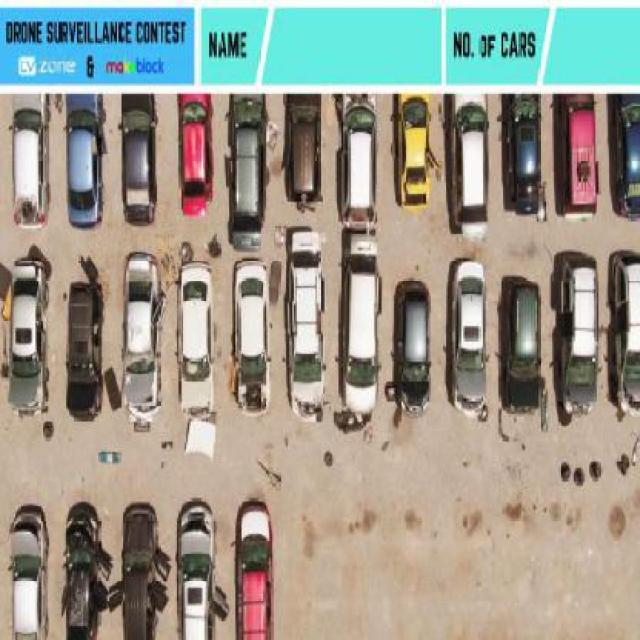car: (340, 231, 382, 425), (283, 225, 324, 422), (2, 254, 51, 417), (120, 247, 163, 420), (557, 247, 601, 412), (231, 256, 276, 415), (176, 258, 219, 418), (450, 257, 493, 416), (449, 95, 493, 242), (234, 497, 277, 640), (226, 92, 266, 245), (62, 96, 106, 233), (63, 278, 104, 422), (6, 99, 49, 233), (553, 93, 600, 215), (60, 497, 100, 639), (395, 277, 435, 418), (5, 503, 46, 640), (120, 500, 160, 639), (340, 91, 379, 229), (178, 499, 216, 640), (507, 276, 545, 416), (279, 93, 323, 211), (120, 93, 158, 225), (506, 92, 546, 215), (177, 94, 217, 212), (393, 93, 432, 209), (614, 247, 640, 416), (612, 92, 640, 218)
